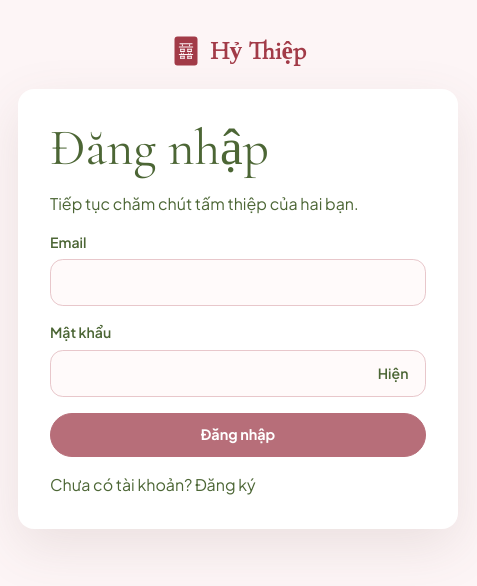
Test case: authentication UI › validates login and displays server errors
Click the button "Đăng nhập": point(238, 435) [50,412,426,457]
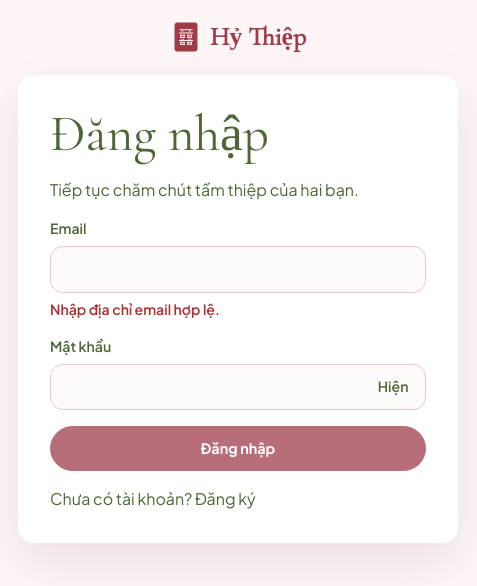
Expected: the message shows "email hợp lệ", [50,300,220,318]
In the field labelled "Email": point(238, 269) [50,246,426,292], type "a@test.vn"
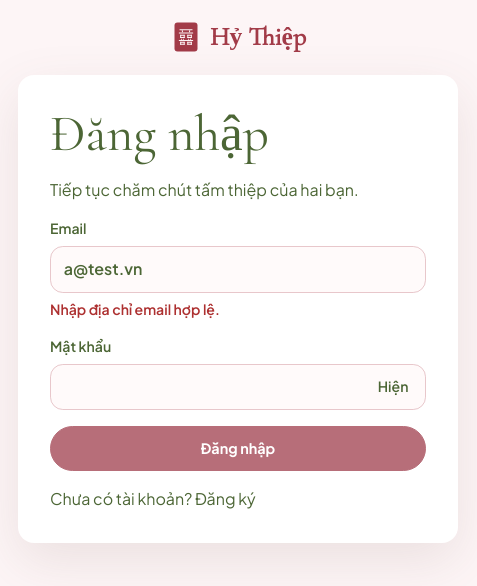
In the password field labelled "Mật khẩu": point(238, 387) [50,364,426,410], type "wrong"
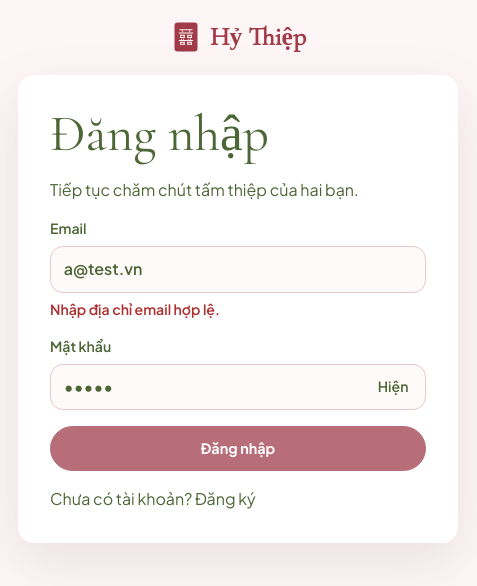
Click the button "Đăng nhập": point(238, 449) [50,426,426,471]
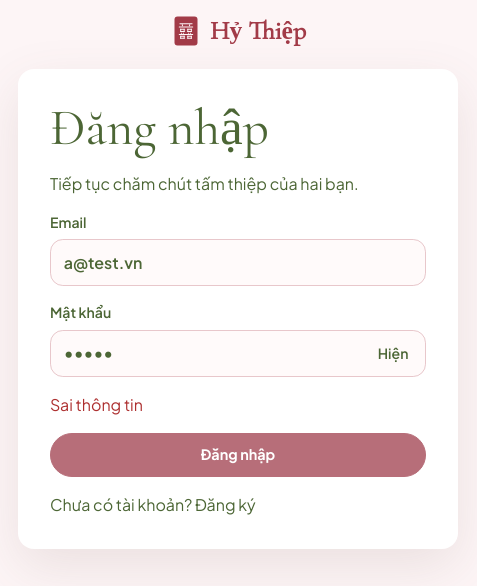
Expected: the message reads "Sai thông tin", [50,394,143,414]
